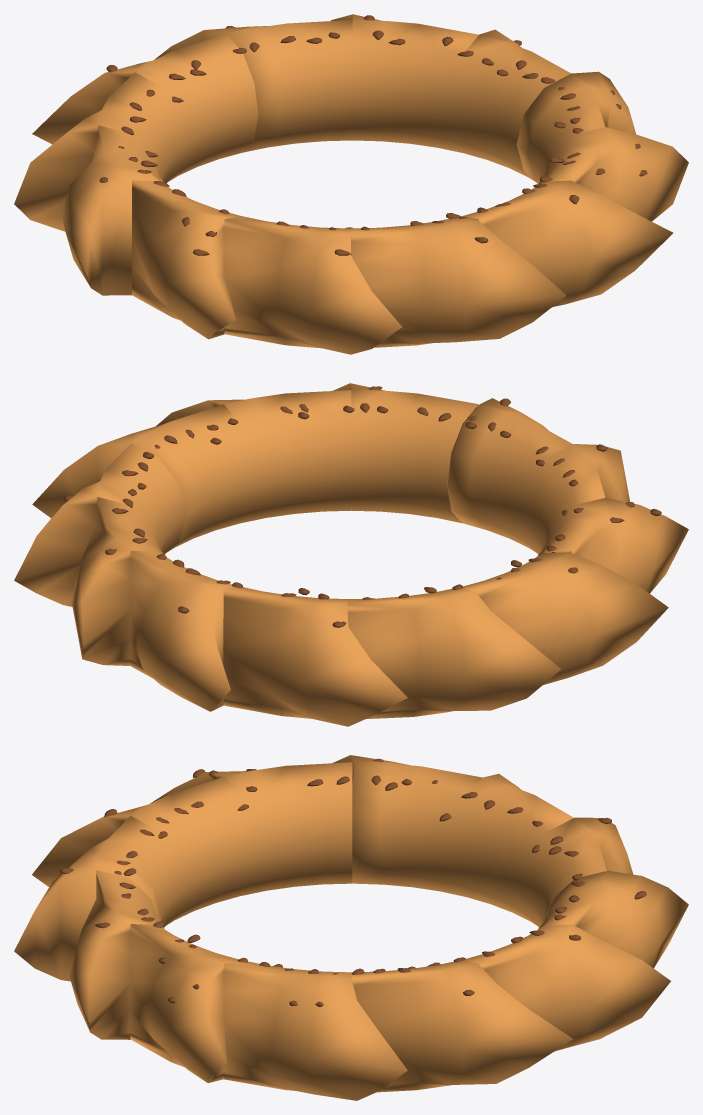
The picture shows the model from 3 angles, top to bottom: view 1: azimuth 30°, elevation 25°; view 2: azimuth 150°, elevation 25°; view 3: azimuth 270°, elevation 25°; orthographic projection.
Parts seen in each view (by area): view 1: Icosphere.070; view 2: Icosphere.070; view 3: Icosphere.070.
Boxes of the visible parts, box(x1,y1,x2,y2) form: Icosphere.070: box(14, 14, 688, 354); Icosphere.070: box(14, 383, 688, 726); Icosphere.070: box(14, 755, 688, 1100).
Bounding box in the file's own units: 20.76 × 20.75 × 3.93.
